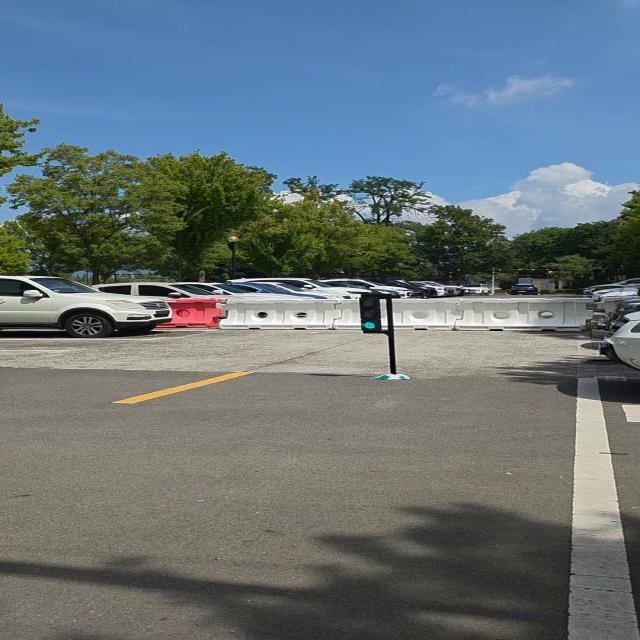green: (357, 291, 391, 334)
